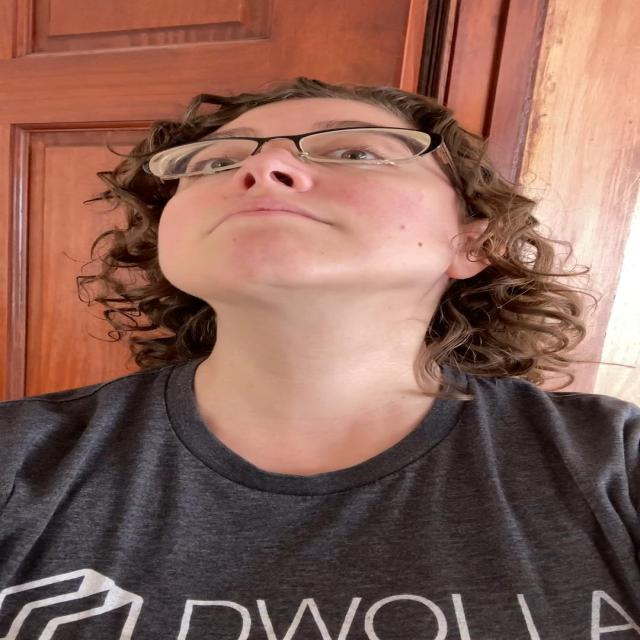Mask: (350, 594, 458, 640), (180, 600, 264, 640)
NO-Mask: (126, 101, 492, 324)
